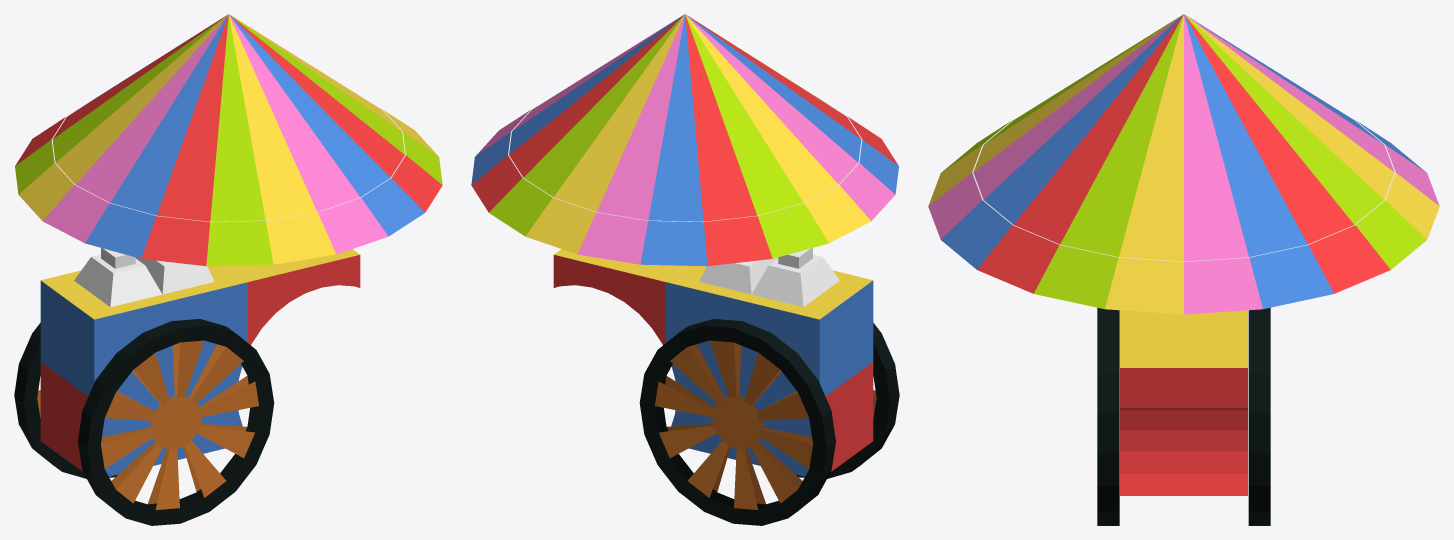
The model's file is icecreamcart.fbx.
3 views of the same model, side by side, from view 1: azimuth 30°, elevation 25°; view 2: azimuth 150°, elevation 25°; view 3: azimuth 270°, elevation 25° (orthographic). The views are drawn at different scales.
Visible parts, largest first — view 1: Cube; view 2: Cube; view 3: Cube.
Boxes of the visible parts, box(x1,y1,x2,y2) form: Cube: box(14, 14, 442, 525); Cube: box(471, 14, 899, 525); Cube: box(928, 14, 1439, 525).
Bounding box in the file's own units: 1967 × 2333 × 1967.
